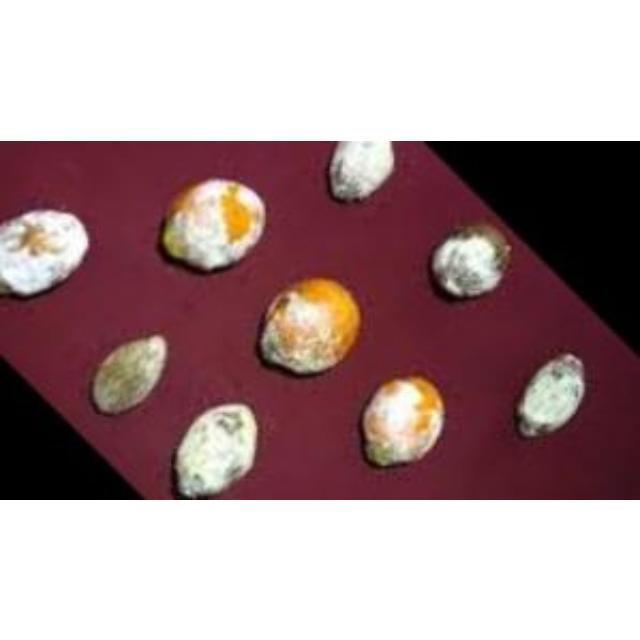damaged: (253, 253, 368, 380), (154, 174, 270, 275), (173, 401, 268, 497), (0, 206, 92, 301), (360, 371, 447, 470), (83, 331, 178, 418), (428, 223, 514, 303), (516, 352, 586, 440), (327, 140, 394, 204)
